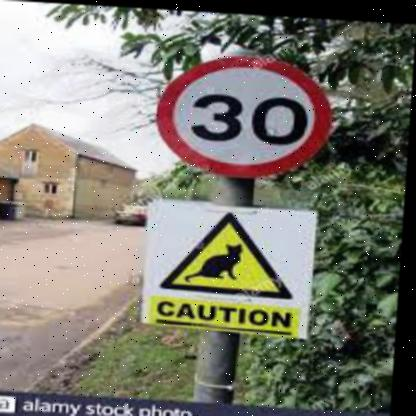Speed Limit -30-: (154, 48, 343, 181)
